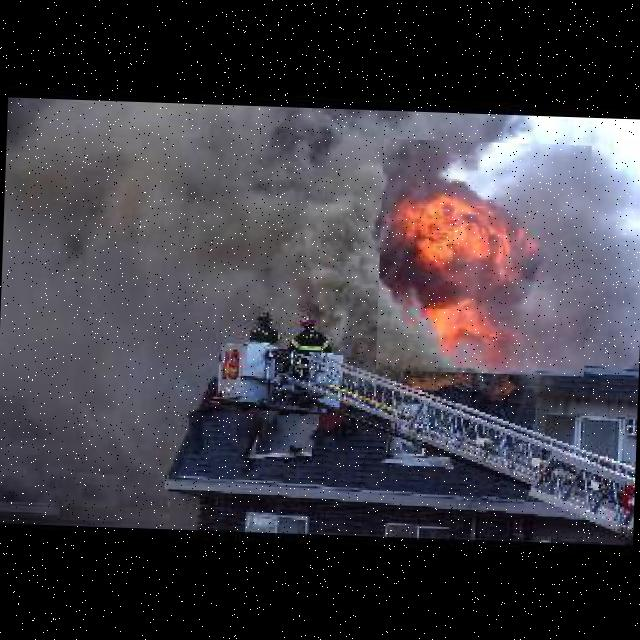fire: (376, 138, 592, 376)
